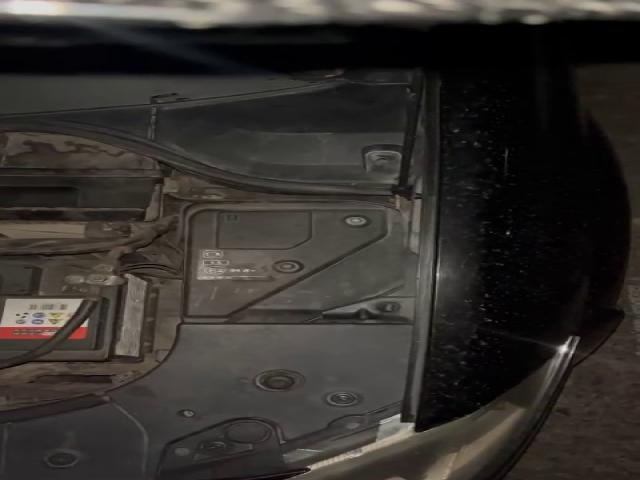accumulator: (4, 259, 160, 363)
fuse_box: (181, 201, 410, 322)
